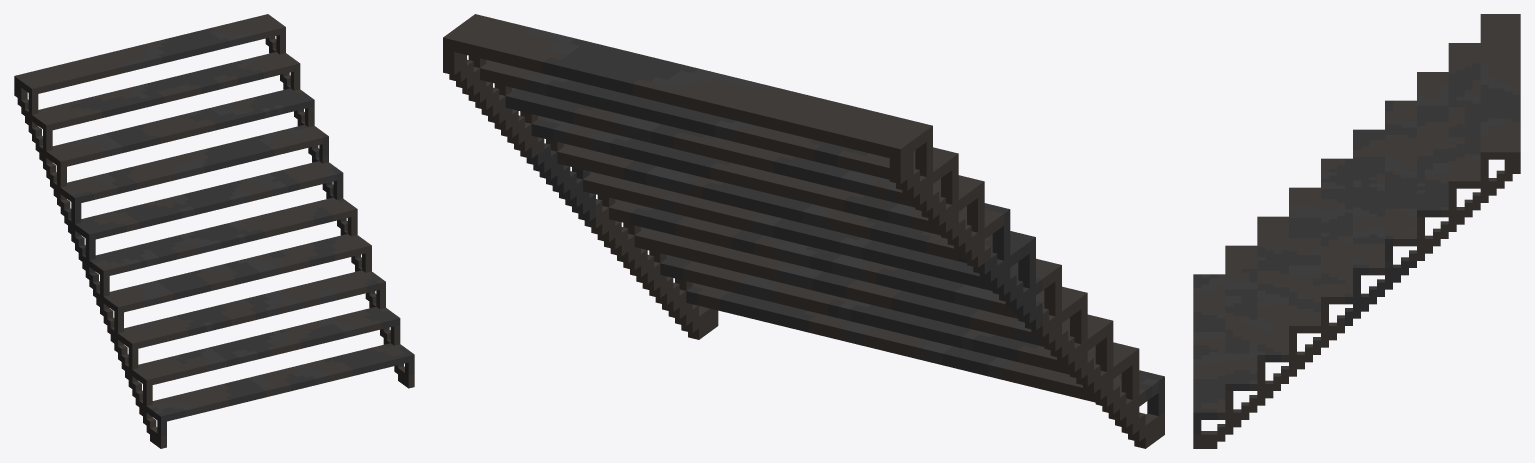
File: StaisBlender3 1.fbx
3 renders of one model, left to right at view 1: azimuth 30°, elevation 25°; view 2: azimuth 150°, elevation 25°; view 3: azimuth 270°, elevation 25°, orthographic. The views are drawn at different scales.
Parts seen in each view (by area): view 1: Untitled; view 2: Untitled; view 3: Untitled.
Part boxes in pixels (box(x1,y1,x2,y2)): Untitled: box(14, 14, 414, 448); Untitled: box(443, 14, 1164, 448); Untitled: box(1193, 14, 1520, 448).
Size of the model in its own units: 100 by 100 by 100.
